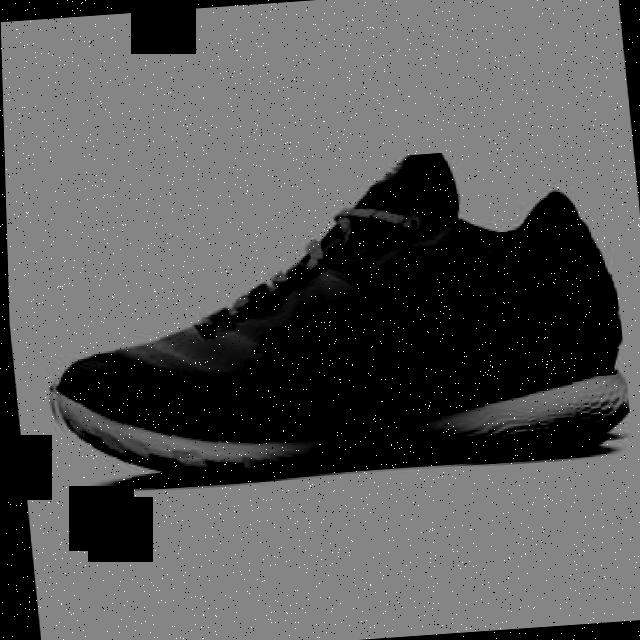shoe: (23, 141, 631, 491)
